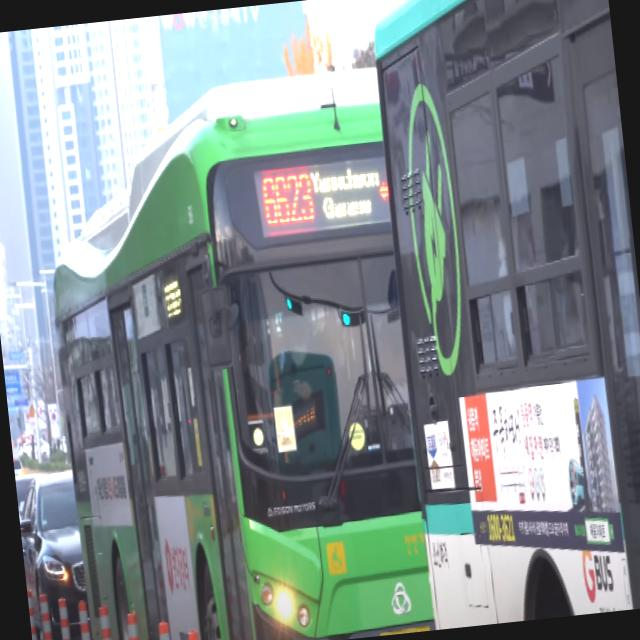bus-number: (260, 170, 316, 230)
